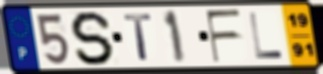1: (161, 9, 189, 65)
5: (34, 11, 72, 66)
F: (204, 8, 243, 65)
L: (247, 11, 286, 61)
S: (69, 10, 117, 67)
T: (121, 12, 155, 63)
